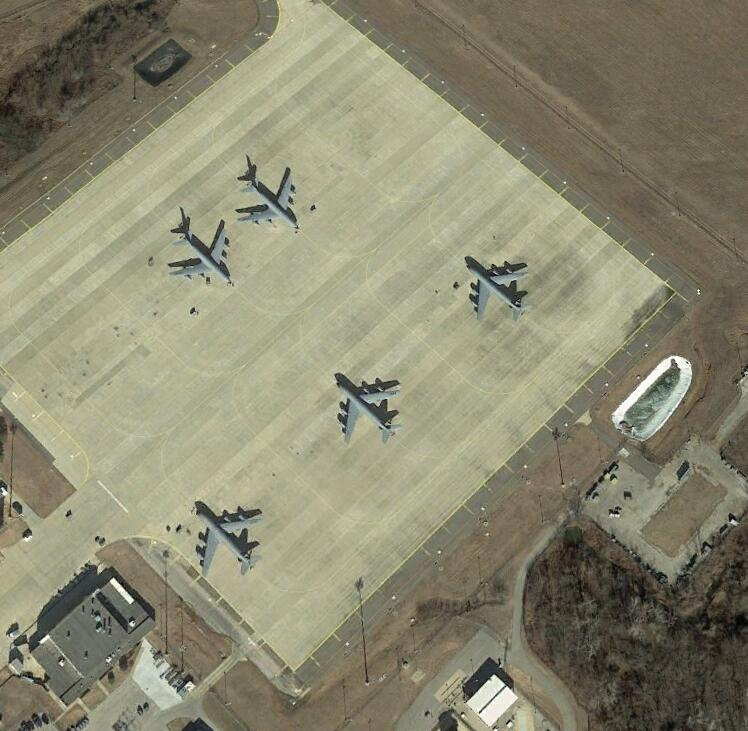A14: (194, 507, 267, 580), (334, 378, 405, 446), (166, 223, 234, 287), (462, 255, 529, 317), (236, 170, 300, 231)
